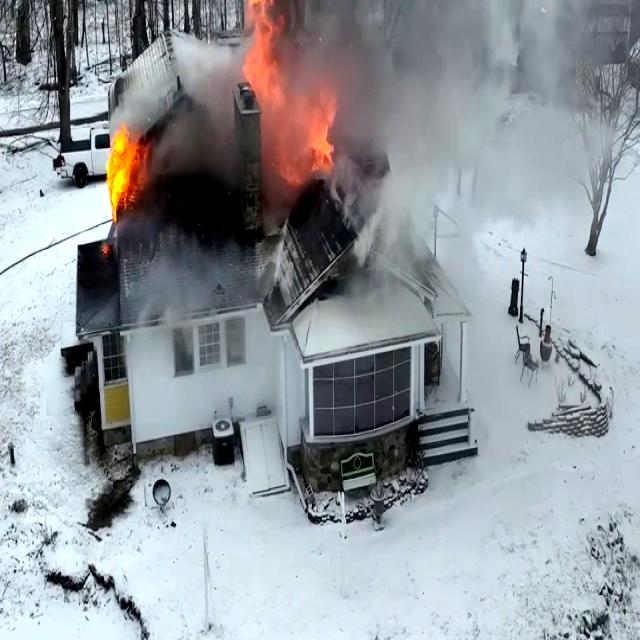fire: (226, 0, 346, 178), (105, 128, 144, 209)
